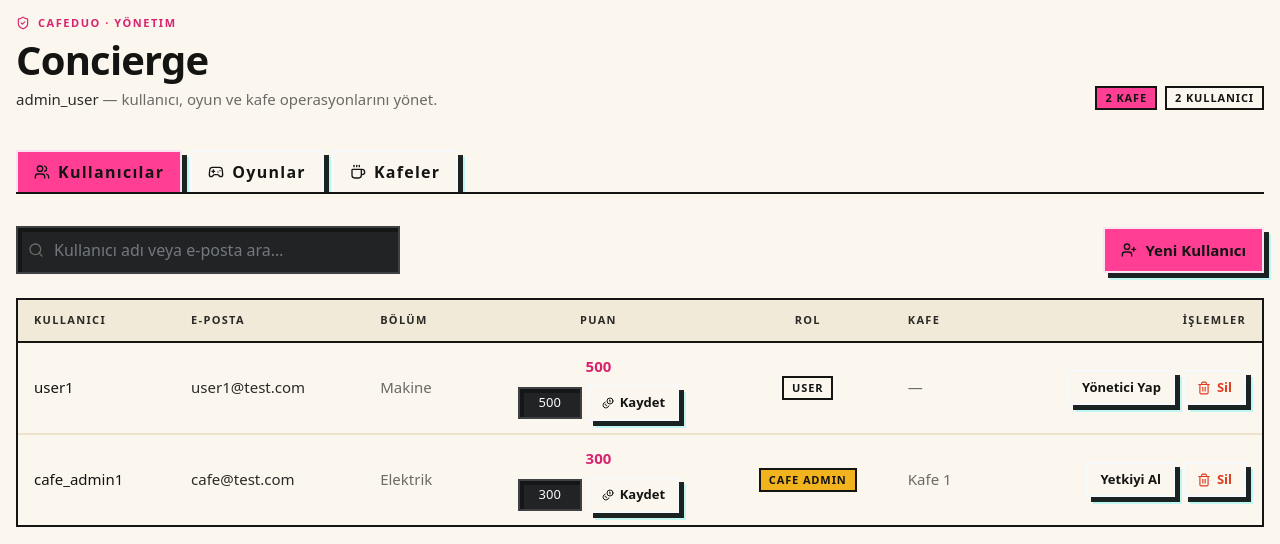
Test case: AdminDashboard › switches to games tab when clicked
Expected: the text "user1" is shown, [18,342,175,434]
Click the button "Oyunlar" at (257, 172), box [190,150,324,194]
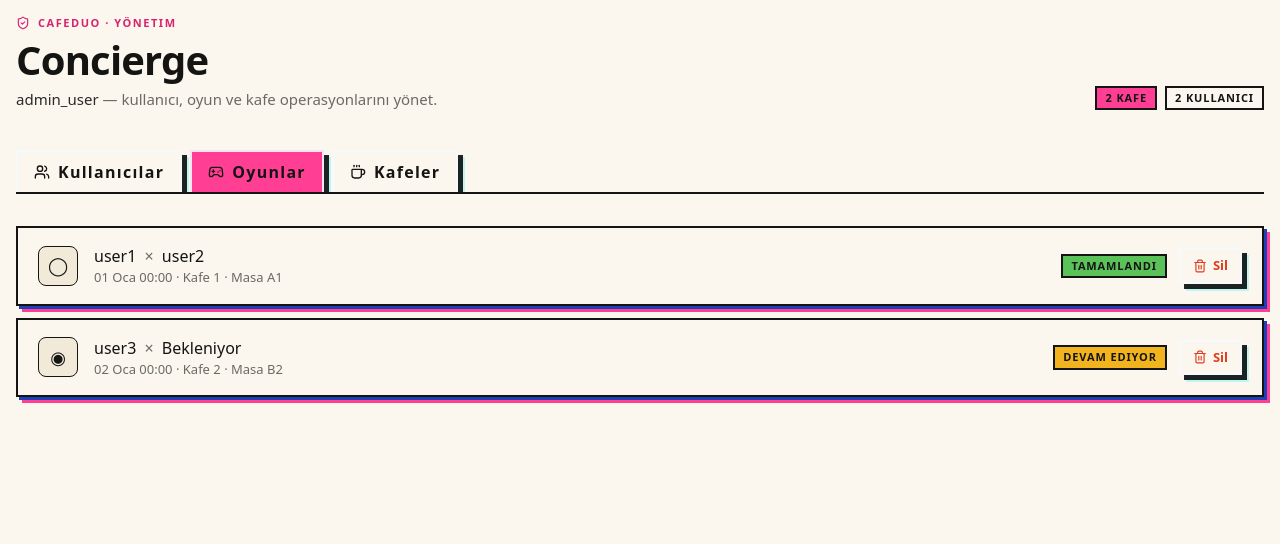
Expected: the text "user1 × user2" is shown, [94,245,204,267]
Expected: the text "user3 × Bekleniyor" is shown, [94,336,241,358]
